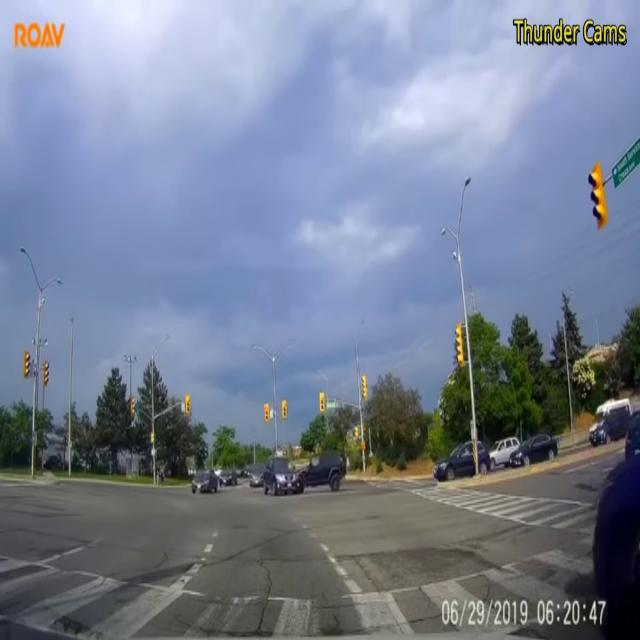accident: (265, 448, 355, 505)
